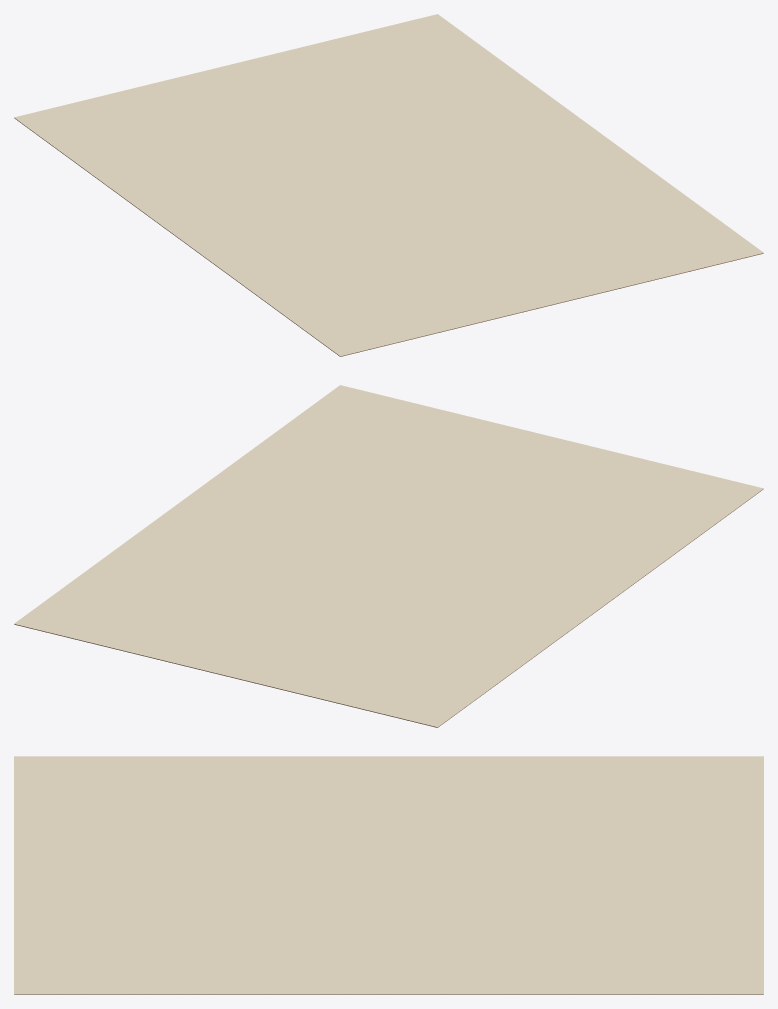
File: AtriumLanternCeiling_r002.glb
3 renders of one model, top to bottom at view 1: azimuth 30°, elevation 25°; view 2: azimuth 150°, elevation 25°; view 3: azimuth 270°, elevation 25°, orthographic. The views are drawn at different scales.
Parts seen in each view (by area): view 1: CapField_0_3, CapField_1_3, CapField_2_3, CapField_0_0, CapField_0_2, CapField_0_1, CapField_2_0, CapField_2_2, CapField_1_0, CapField_1_1, CapField_1_2, CapField_2_1; view 2: CapField_0_0, CapField_1_0, CapField_2_0, CapField_0_3, CapField_0_1, CapField_0_2, CapField_2_1, CapField_2_3, CapField_1_1, CapField_1_2, CapField_1_3, CapField_2_2; view 3: CapField_2_0, CapField_2_2, CapField_2_1, CapField_2_3, CapField_0_0, CapField_0_2, CapField_1_0, CapField_1_1, CapField_1_2, CapField_1_3, CapField_0_1, CapField_0_3 (+1 smaller).
Boxes of the visible parts, x1,y1,x2,y2 form: CapField_0_3: (259,262,480,356); CapField_1_3: (400,227,622,321); CapField_2_3: (541,193,763,287); CapField_0_0: (14,83,236,177); CapField_0_2: (177,202,399,296); CapField_0_1: (95,142,317,236); CapField_2_0: (297,14,518,107); CapField_2_2: (460,133,681,227); CapField_1_0: (156,48,377,142); CapField_1_1: (237,108,459,202); CapField_1_2: (319,168,540,261); CapField_2_1: (378,74,600,167); CapField_0_0: (297,633,518,727); CapField_1_0: (155,598,377,692); CapField_2_0: (14,564,236,658); CapField_0_3: (541,454,763,548); CapField_0_1: (378,573,600,667); CapField_0_2: (460,513,682,607); CapField_2_1: (96,504,317,598); CapField_2_3: (259,385,480,478); CapField_1_1: (237,539,458,632); CapField_1_2: (318,479,540,573); CapField_1_3: (400,419,621,513); CapField_2_2: (177,445,399,538); CapField_2_0: (576,914,763,994); CapField_2_2: (201,914,388,994); CapField_2_1: (389,914,576,994); CapField_2_3: (14,914,201,994); CapField_0_0: (576,756,763,835); CapField_0_2: (201,756,388,835); CapField_1_0: (576,835,763,914); CapField_1_1: (389,835,576,914); CapField_1_2: (201,835,388,914); CapField_1_3: (14,835,201,914); CapField_0_1: (389,756,576,835); CapField_0_3: (14,756,201,835).
Size of the model in its own units: 96 by 0.2845 by 128.
4 materials, 1 textured.
